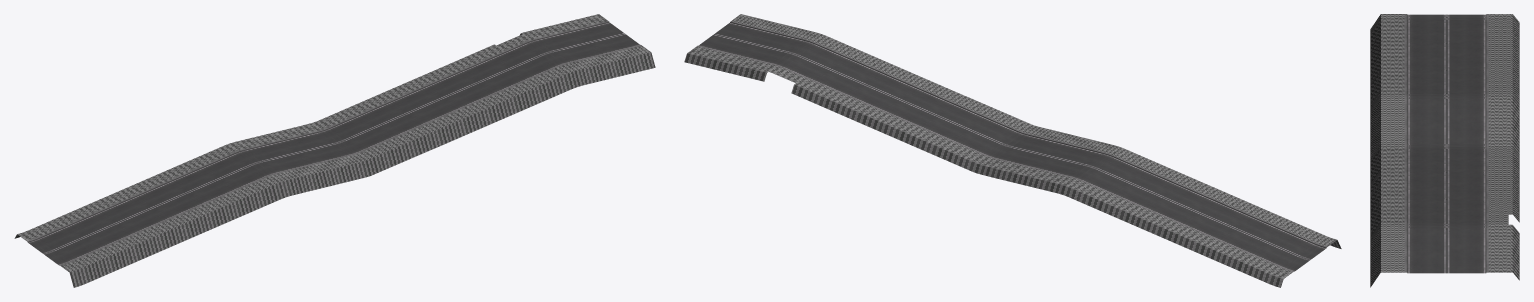
Rendered from road41_sfe.obj.
3 renders of one model, left to right at view 1: azimuth 30°, elevation 25°; view 2: azimuth 150°, elevation 25°; view 3: azimuth 270°, elevation 25°, orthographic. The views are drawn at different scales.
Visible parts, largest first — view 1: road41_sfe; view 2: road41_sfe; view 3: road41_sfe.
Part boxes in pixels (x1,y1,x2,y2): road41_sfe: (14,14,655,287); road41_sfe: (684,14,1341,287); road41_sfe: (1370,14,1519,287).
Bounding box in the file's own units: 160 × 23.79 × 28.28.
Materials: 2 (2 with a texture image).
